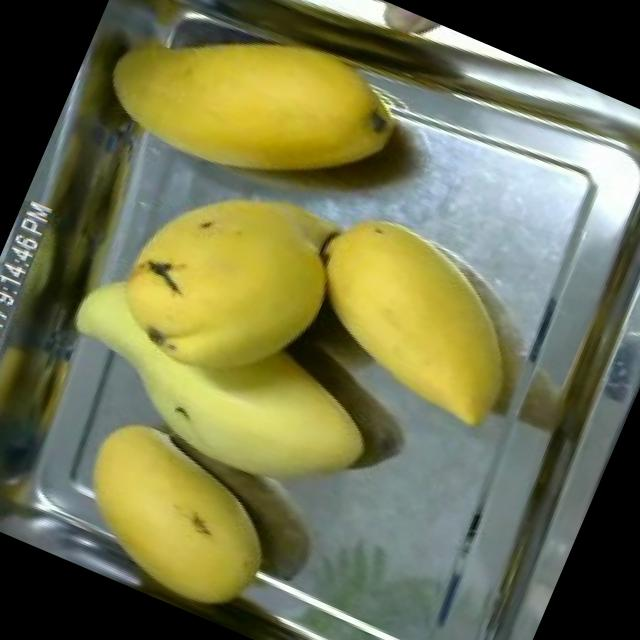fruit: (33, 120, 431, 524), (65, 0, 436, 251), (259, 176, 570, 455), (45, 401, 306, 633)
